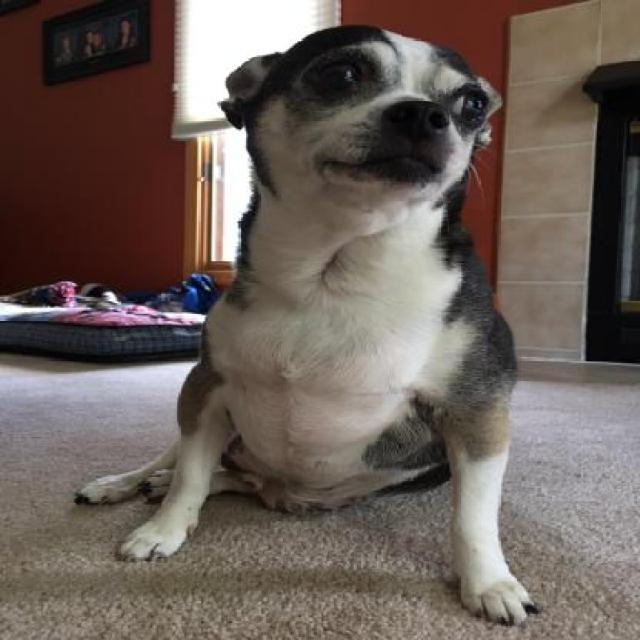Dog: (69, 24, 545, 634)
